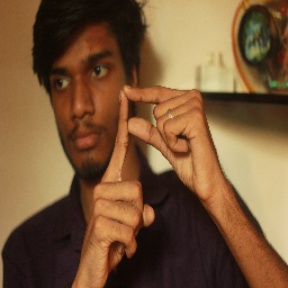P: (86, 79, 213, 229)
